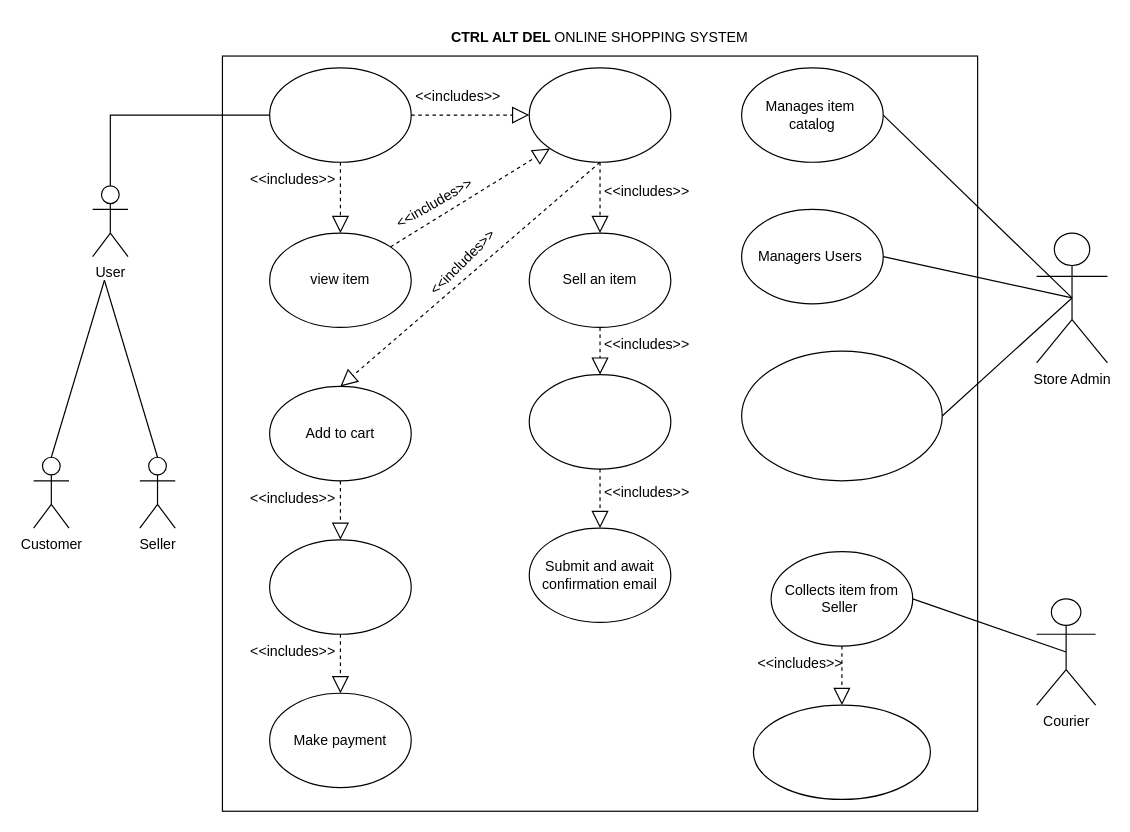
Some shapes in this 1130 by 832 pixel diagram are drawn without their labels. The centre of each missing label's shape, as x and y in pixels:
Browse Catalog: the point at 339,114
Checkout items in cart: the point at 339,586
Confirms/Denies sellers request to upload their item to sell: the point at 841,415
Delivers item to the Customer who purchased the item: the point at 841,751
Login/Sign in: the point at 599,114
upload item details and images: the point at 599,421
